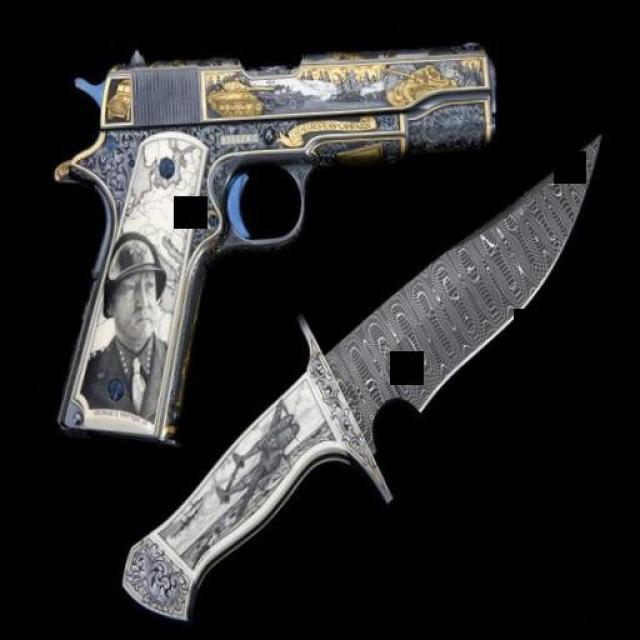gun: (28, 31, 516, 446)
